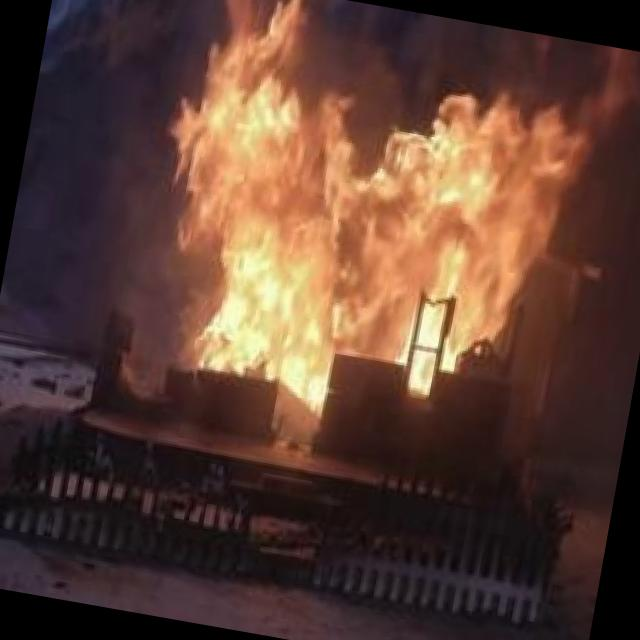fire: (114, 0, 615, 497)
